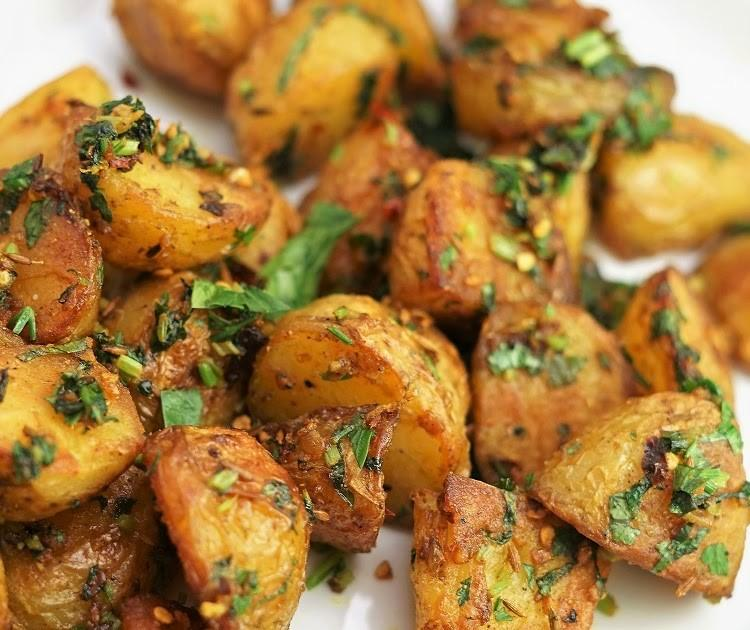AlooMasala: (0, 1, 750, 630)
